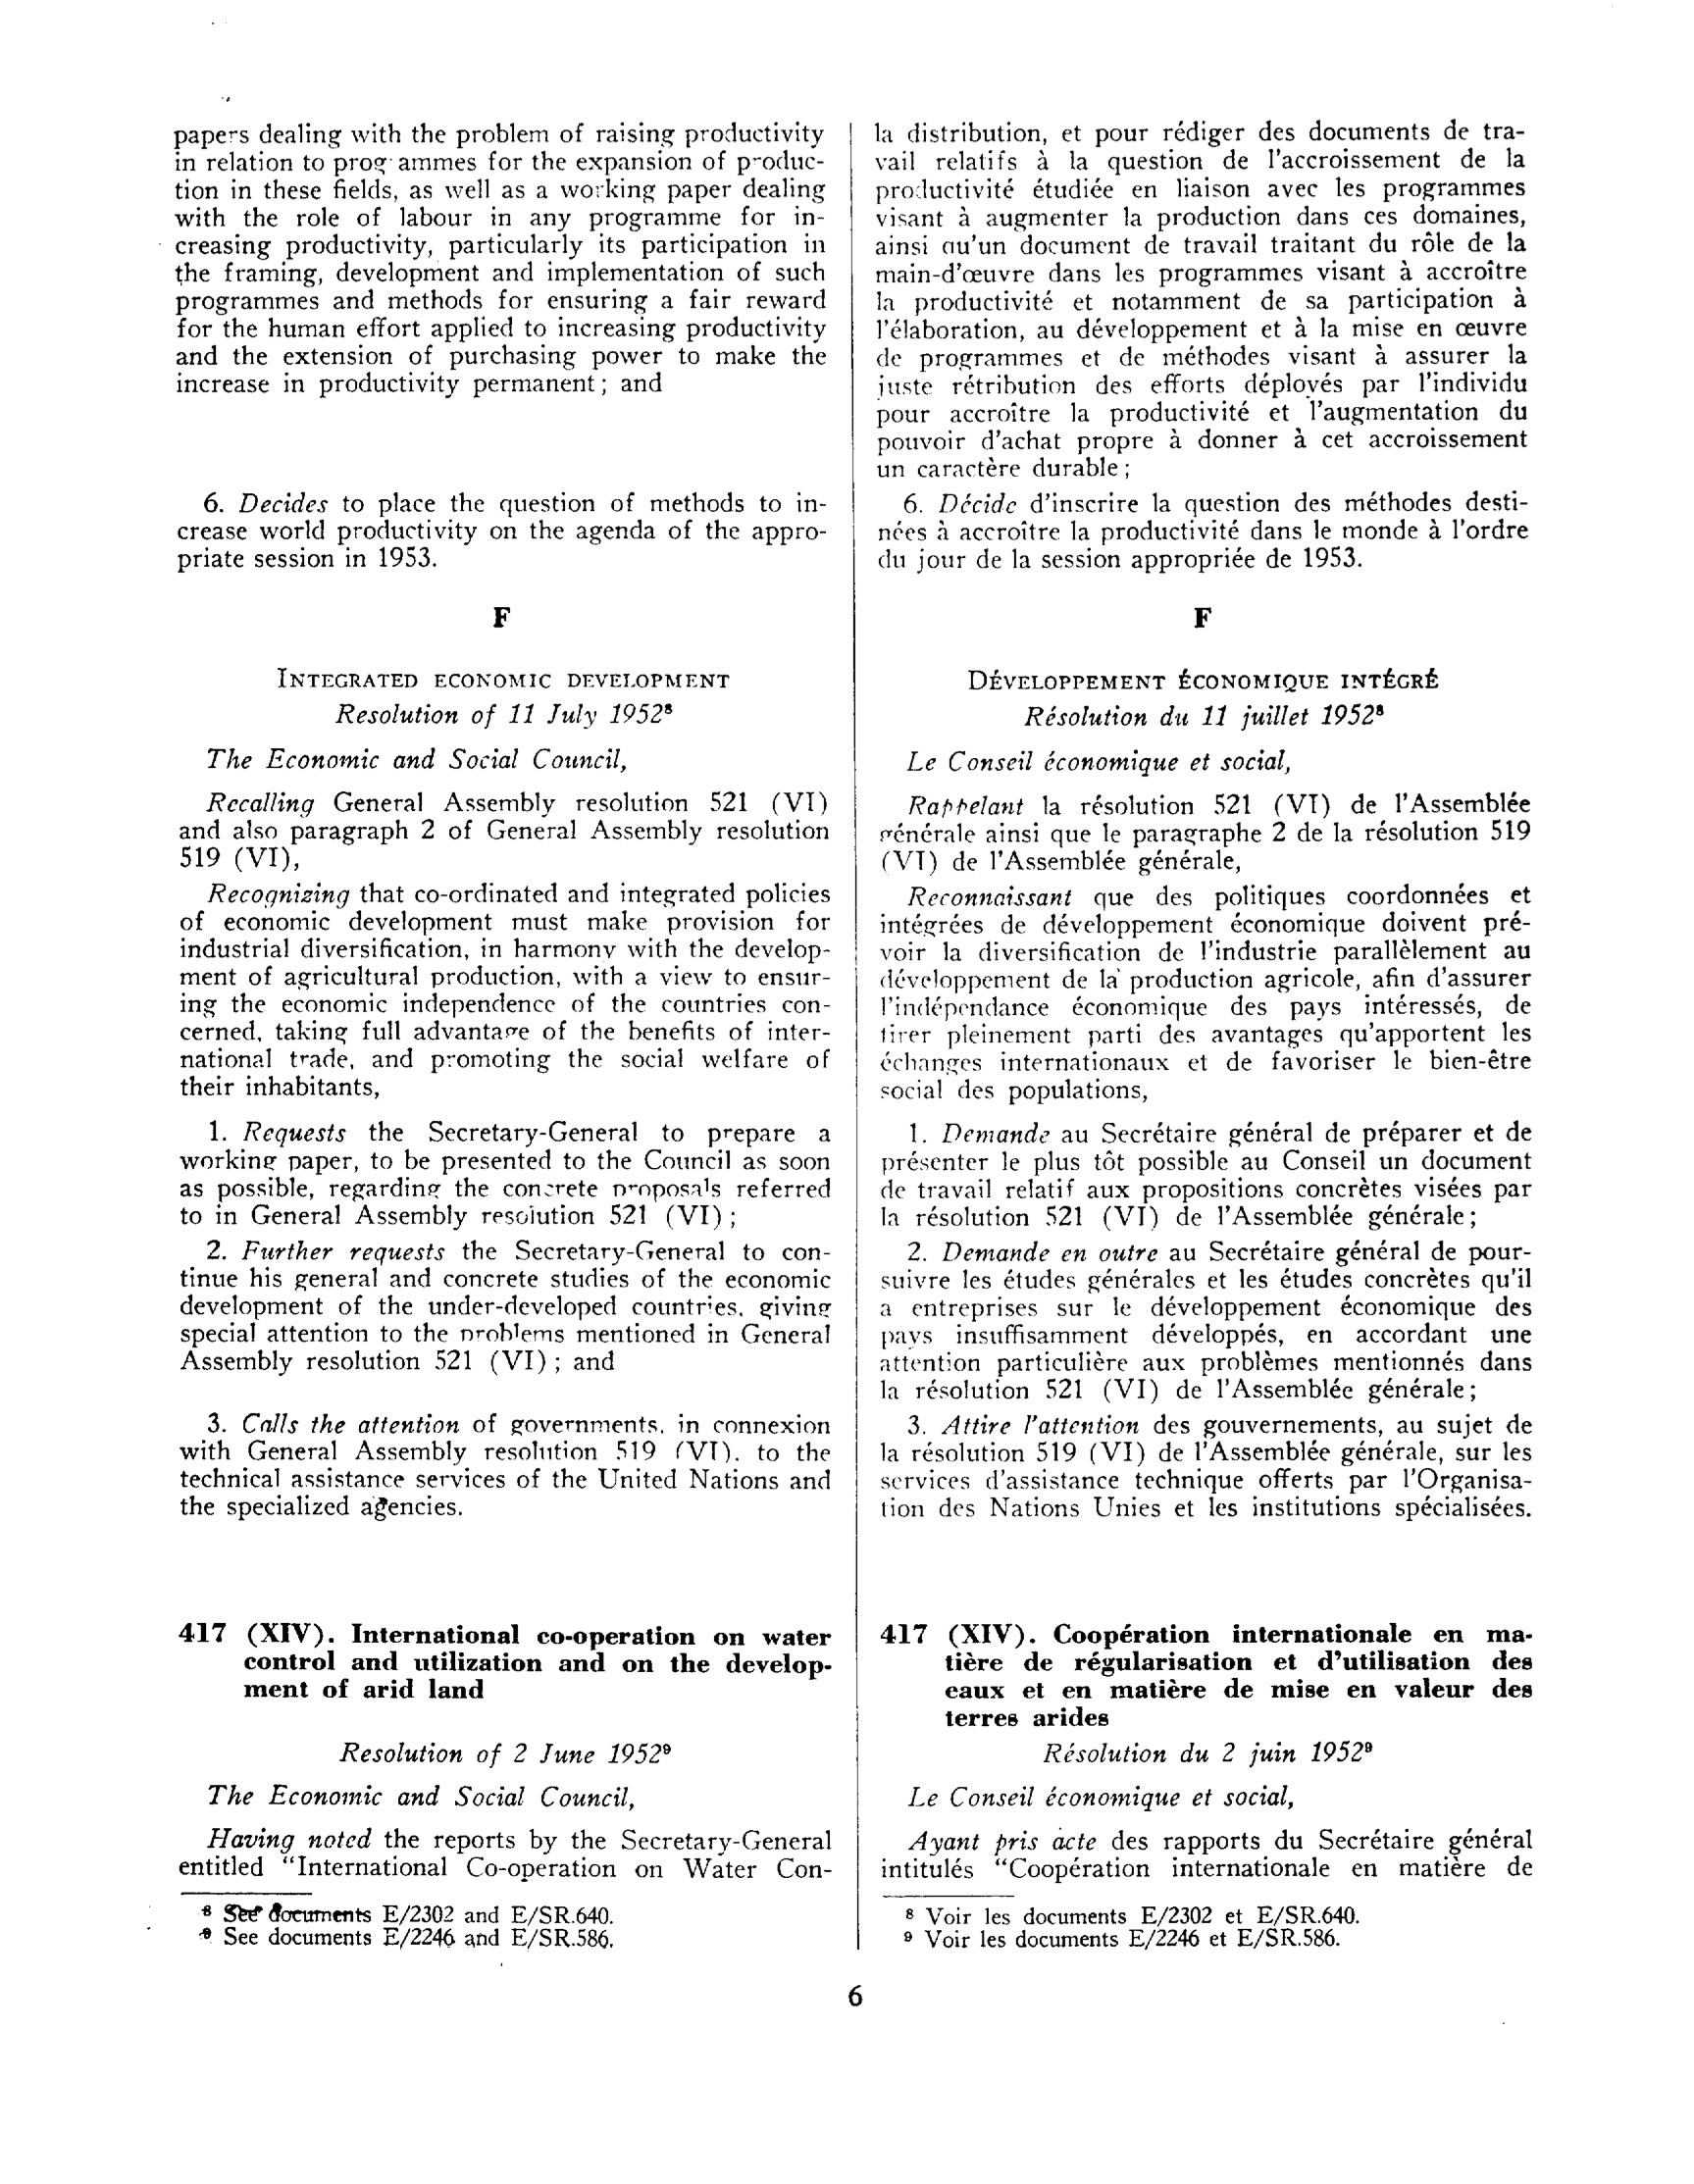MainZone-Continued: (863, 115, 1529, 484), (166, 116, 831, 412)
MainZone-Head: (869, 1617, 1540, 1729), (170, 1613, 837, 1711), (954, 660, 1447, 736), (263, 658, 740, 735), (326, 1729, 691, 1773), (1028, 1733, 1385, 1773), (1186, 603, 1219, 635), (488, 604, 519, 636)
MainZone-ListItem: (872, 1237, 1538, 1404), (173, 1233, 838, 1380), (170, 1405, 839, 1531), (870, 1407, 1539, 1533), (171, 1113, 838, 1232), (872, 1116, 1537, 1234), (169, 483, 833, 583), (868, 486, 1535, 583)
MainZone-P: (873, 880, 1538, 1109), (172, 878, 837, 1105), (875, 787, 1536, 880), (172, 785, 835, 876), (171, 1822, 838, 1890), (876, 1821, 1543, 1889), (174, 1773, 737, 1816), (177, 738, 640, 780), (891, 739, 1307, 781), (890, 1781, 1307, 1813)
MarginTextZone-Notes: (886, 1925, 1363, 1957), (885, 1898, 1370, 1928), (192, 1922, 616, 1955), (194, 1902, 616, 1929)
